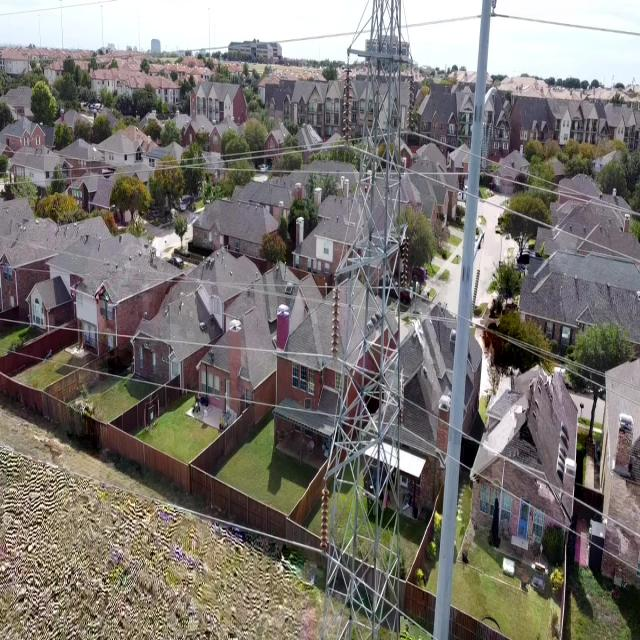杆塔: (315, 0, 420, 638)
正常绝缘子: (317, 481, 335, 557), (340, 54, 354, 150), (329, 280, 344, 364), (401, 228, 412, 297), (408, 58, 416, 140), (398, 367, 404, 423)
